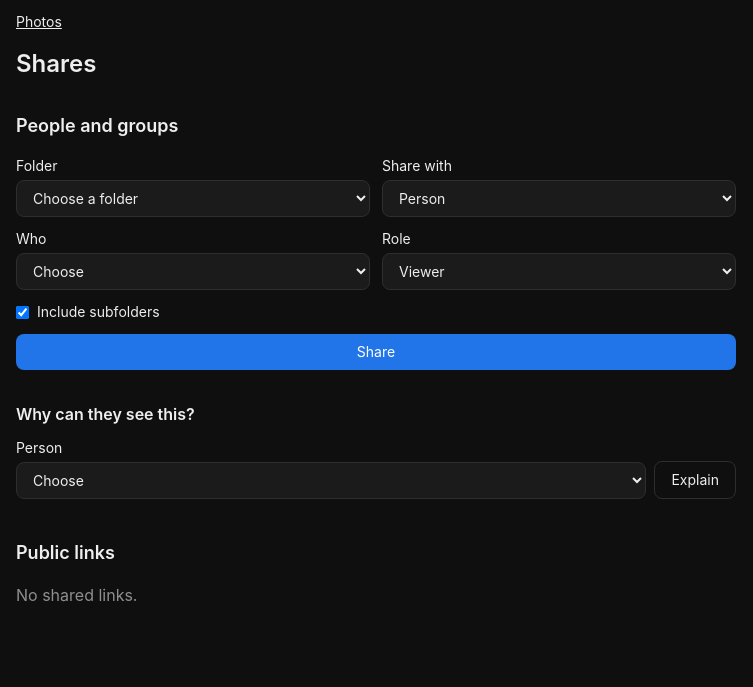
Test: SharesView › mostra la catena di explain dopo un click, non dopo una chiamata diretta nel test
Select "Vacanze" in the dropdown with test id "shares-folder" at (193, 198), box [16,180,370,217]
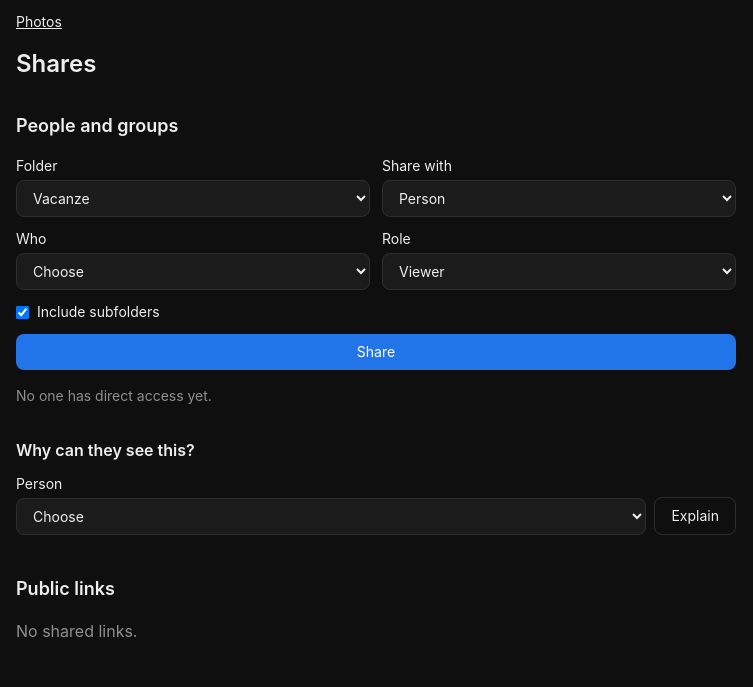
Select "Bob" in the dropdown with test id "shares-explain-user" at (331, 516), box [16,498,646,535]
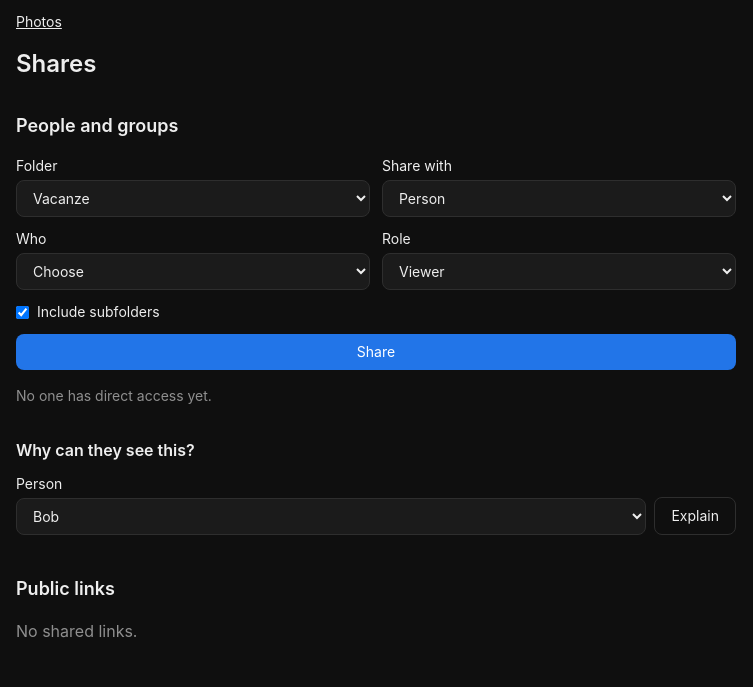
Click the button with test id "shares-explain" at (695, 516), box [654,497,736,535]
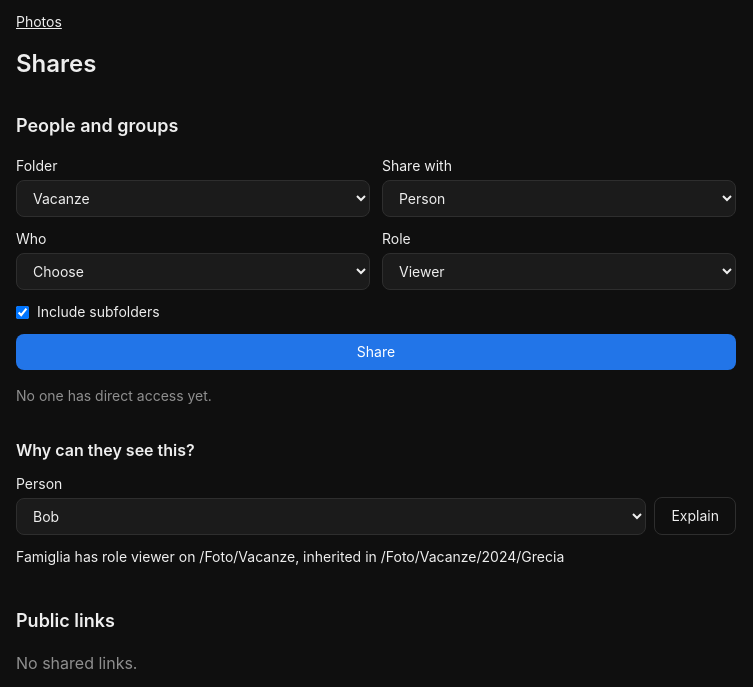
Expected: the list with test id "shares-explain-chain" shows "Famiglia", [16,548,564,565]
Expected: the list with test id "shares-explain-chain" shows "viewer", [16,548,564,565]
Expected: the list with test id "shares-explain-chain" shows "/Foto/Vacanze", [16,548,564,565]
